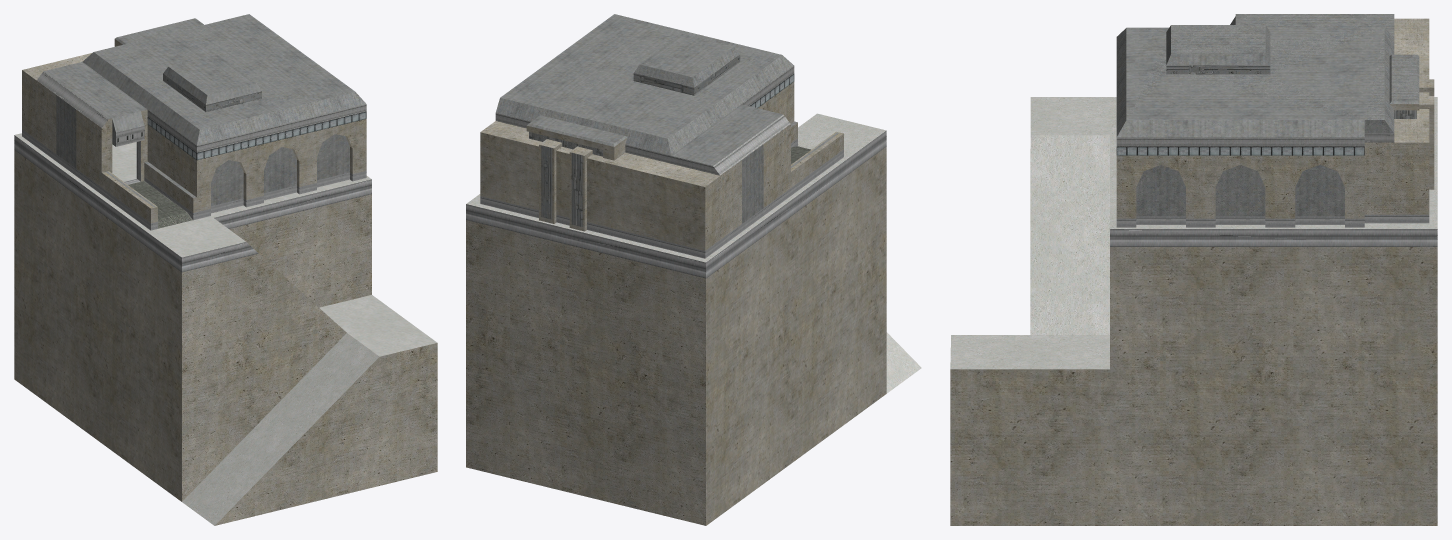
The model's file is ply_all_house_sm_s01_fp2_r0_exterior_mesh_l1.fbx.
3 views of the same model, side by side, from view 1: azimuth 30°, elevation 25°; view 2: azimuth 150°, elevation 25°; view 3: azimuth 270°, elevation 25° (orthographic). The views are drawn at different scales.
Visible parts, largest first — view 1: mesh_node; view 2: mesh_node; view 3: mesh_node.
Part boxes in pixels (<box>): mesh_node: <box>14,14,437,525</box>; mesh_node: <box>466,14,921,525</box>; mesh_node: <box>950,14,1437,525</box>.
Bounding box in the file's own units: 15.74 × 23.24 × 24.55.
